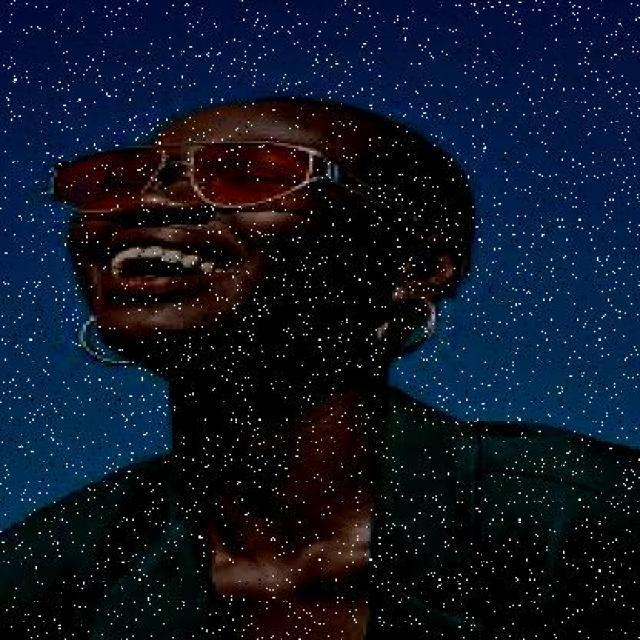sunglasses: (40, 122, 334, 216)
